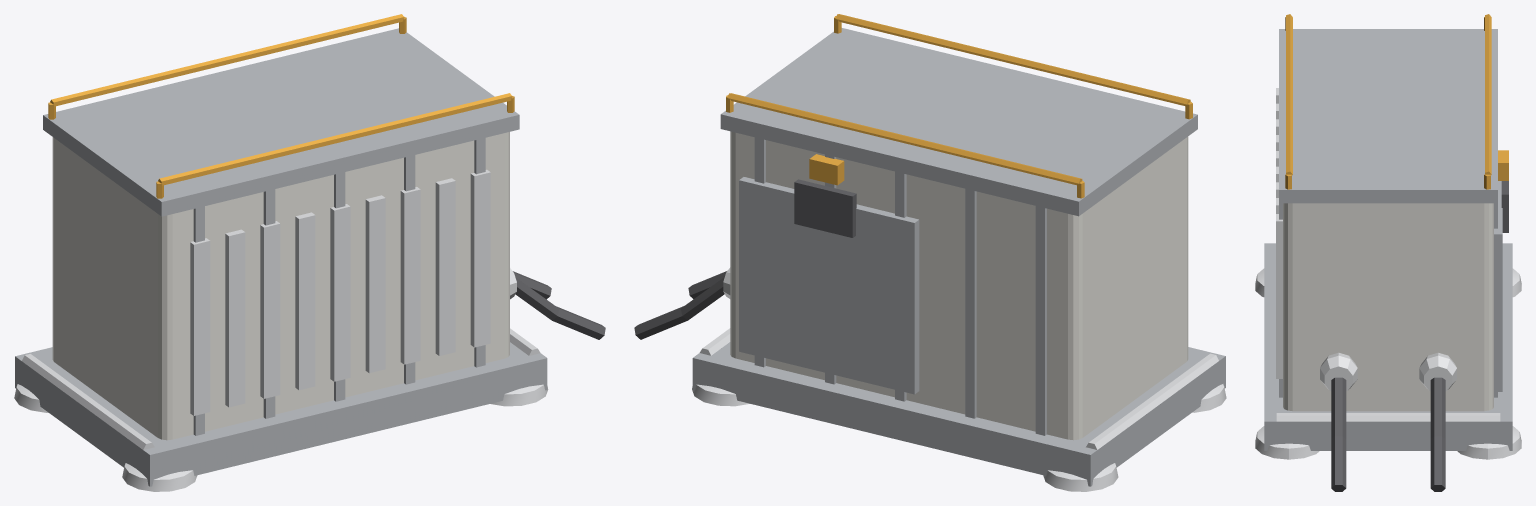
The model's file is battery-container-9755ed67.glb.
The picture shows the model from 3 angles, left to right: view 1: azimuth 30°, elevation 25°; view 2: azimuth 150°, elevation 25°; view 3: azimuth 270°, elevation 25°; orthographic projection. The views are drawn at different scales.
Parts seen in each view (by area): view 1: battery-container; view 2: battery-container; view 3: battery-container.
Boxes of the visible parts, left/top/right/bottom form: battery-container: left=14, top=14, right=605, bottom=491; battery-container: left=634, top=14, right=1226, bottom=491; battery-container: left=1255, top=14, right=1521, bottom=491.
Size of the model in its own units: 4.31 by 2.45 by 2.15.
